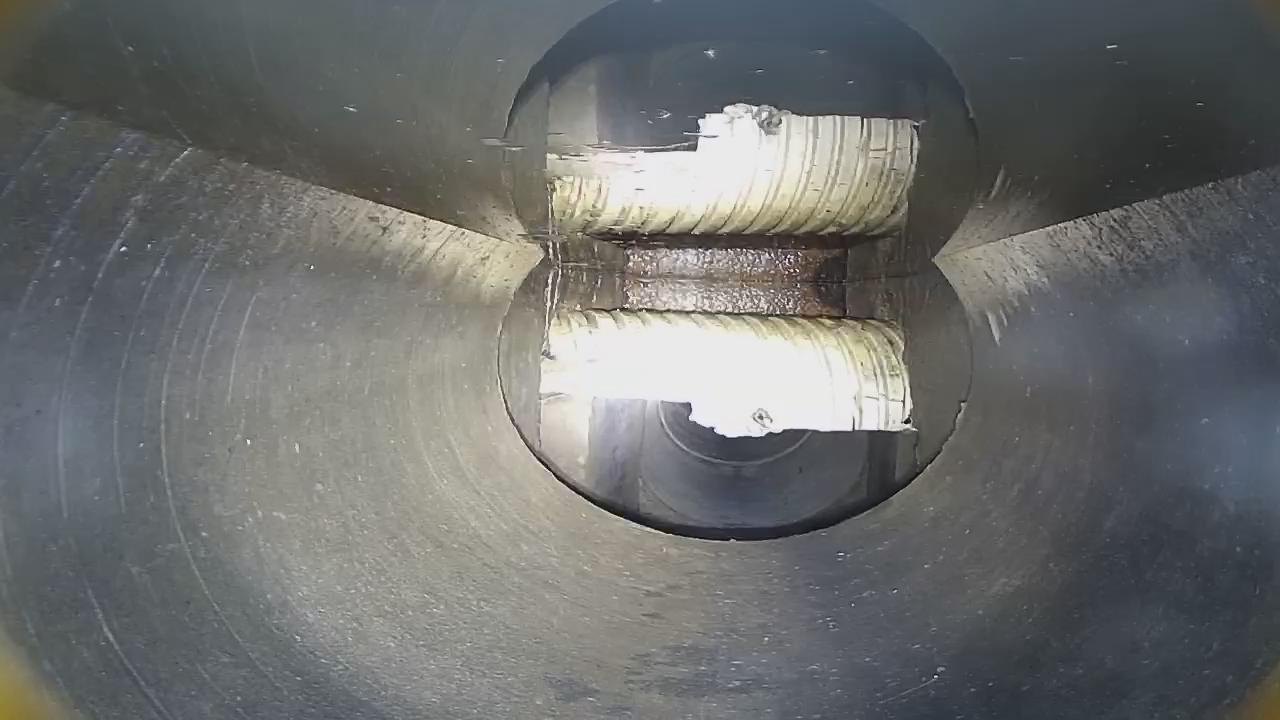YWCR: (539, 307, 913, 437)
